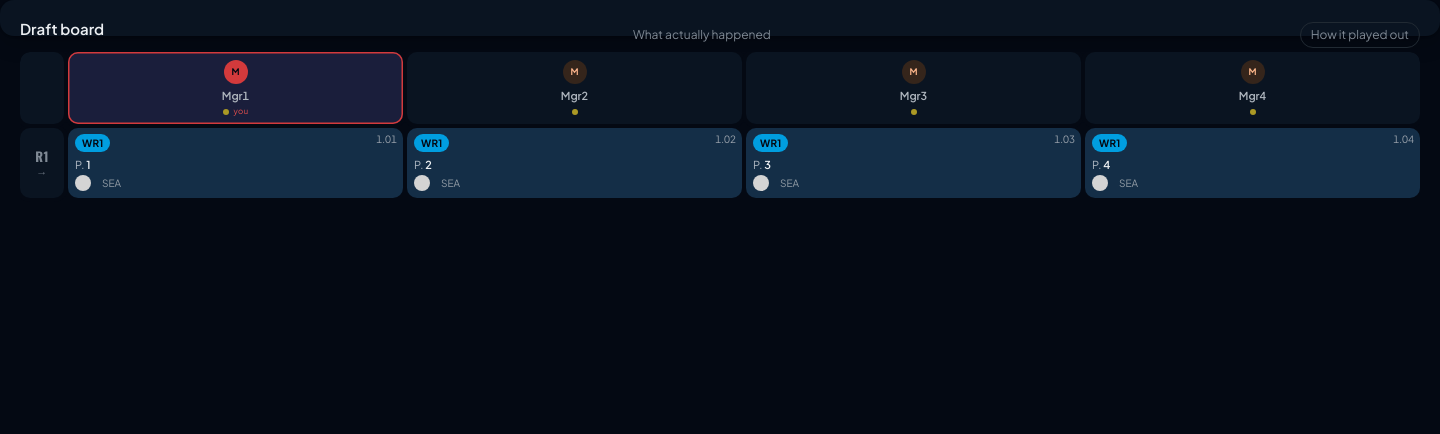
it: CompletedDraftBoard how it played out › shows the early badge when grades are early
The width and height of the screenshot is (1440, 434).
Click the button "How it played out".
click(1360, 35)  # box [1300,22,1420,48]
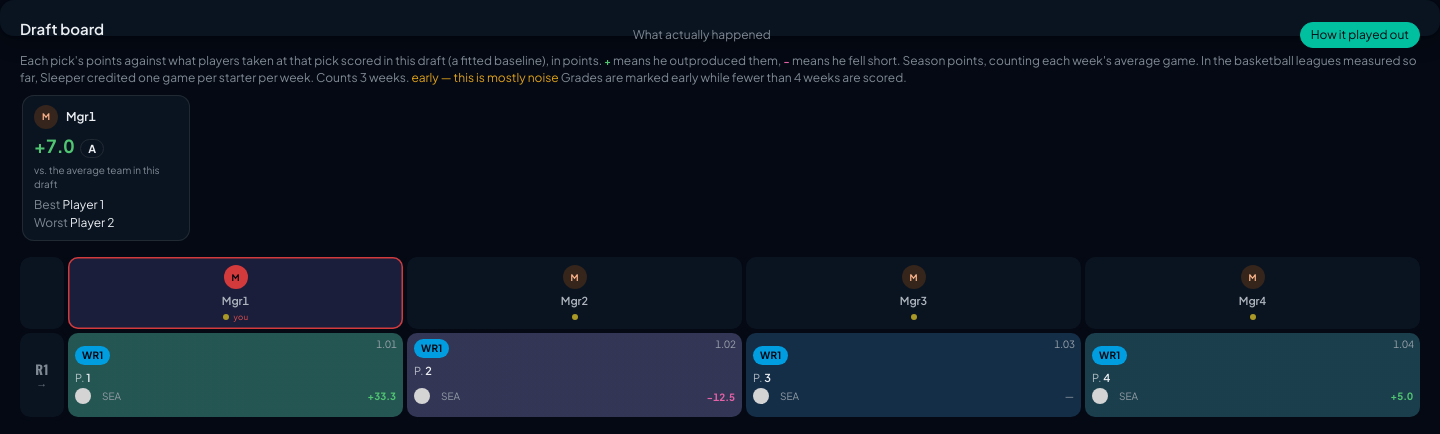
Now the text "early — this is mostly noise" is shown, box [411,70,559,85]
Now the text "Grades are marked early while fewer than 4 weeks are scored." is shown, box [559,70,907,85]
